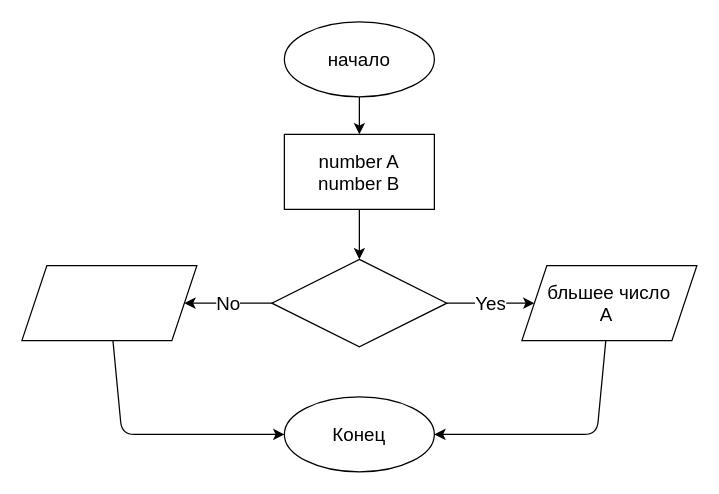
This 719x494 diagram has some shape labels left out. Each missing label, with the box of its shape:
A > B: (271, 258, 447, 347)
большее число B: (21, 264, 197, 341)
